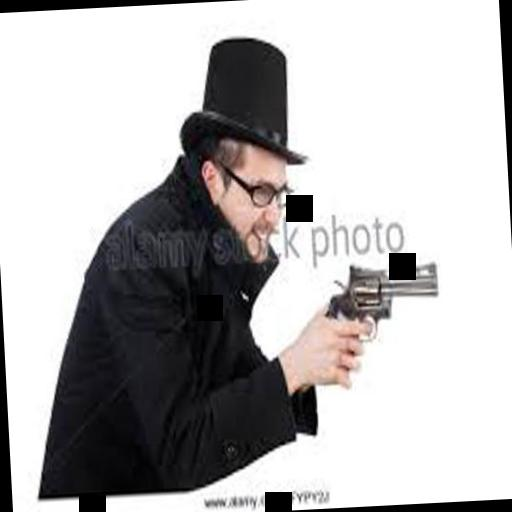Handgun: (314, 240, 452, 398)
